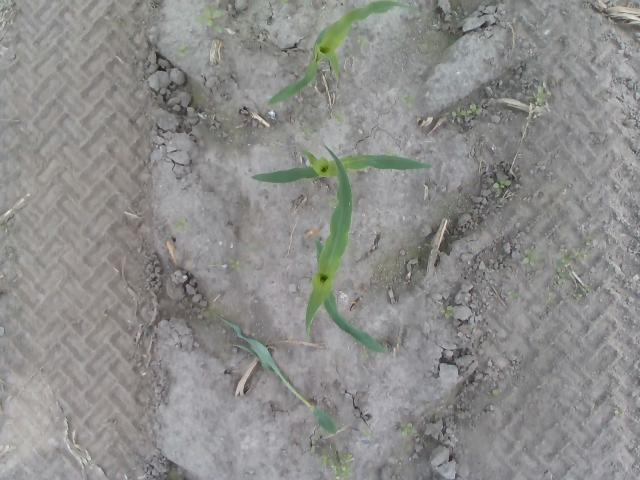Maize: (302, 143, 384, 351), (267, 0, 420, 107), (222, 317, 338, 435), (251, 148, 435, 186)
Weeds: (190, 5, 226, 33), (321, 452, 353, 480), (451, 102, 482, 119), (558, 254, 572, 288), (534, 81, 552, 106), (520, 248, 542, 266), (174, 218, 192, 233), (492, 178, 512, 190), (440, 304, 454, 318), (357, 33, 369, 49), (401, 422, 412, 438), (177, 46, 192, 56), (228, 258, 240, 270), (402, 94, 416, 103), (446, 38, 457, 48), (334, 112, 344, 122), (573, 292, 583, 302), (574, 251, 588, 258), (510, 292, 520, 301), (280, 0, 290, 7), (580, 240, 591, 246), (613, 406, 620, 415)
